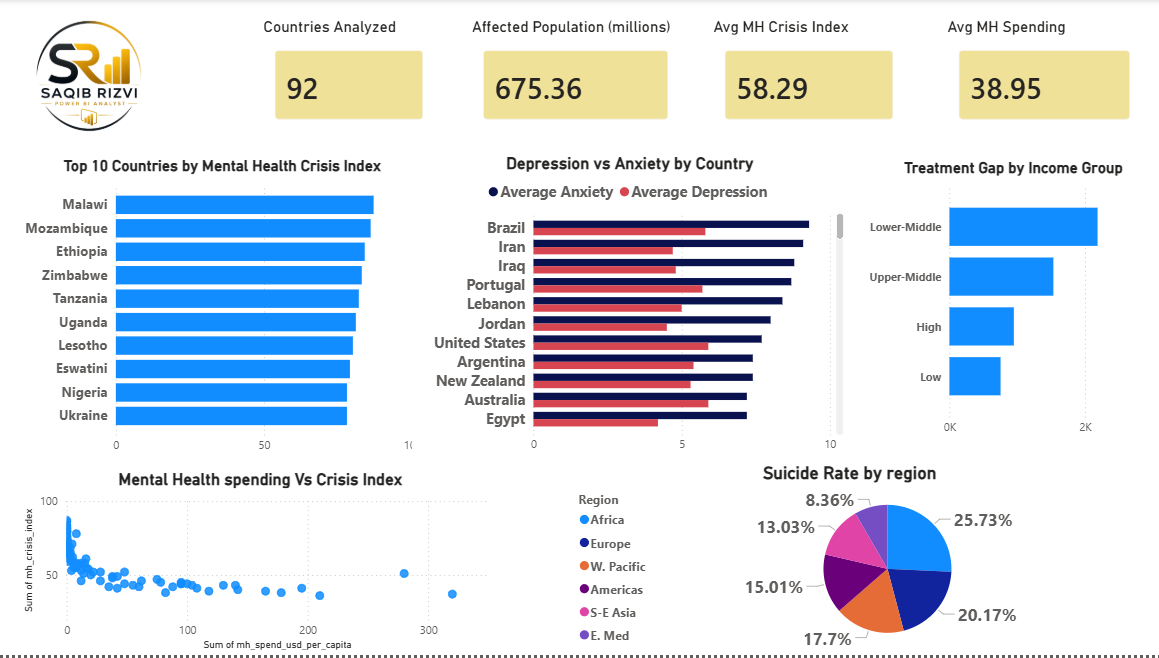

This screenshot's page, from the dashboard's own definition file:
{"tool":"powerbi","page":{"name":"Page 1","canvas":[1280,720],"ordinal":0},"visuals":[{"type":"barChart","title":"Top 10 Countries by Mental Health Crisis Index","fields":{"Category":["Global_Mental_Health_Crisis_Index_2026.country"],"Y":["Sum(Global_Mental_Health_Crisis_Index_2026.mh_crisis_index)"]},"box":[23.1,172.9,446.2,334.3],"z":1000},{"type":"clusteredBarChart","title":"Depression vs Anxiety by Country","fields":{"Y":["Global_Mental_Health_Crisis_Index_2026.Average Anxiety","Global_Mental_Health_Crisis_Index_2026.Average Depression"],"Category":["Global_Mental_Health_Crisis_Index_2026.country"]},"box":[453.8,170.4,478.4,337.5],"z":2000},{"type":"barChart","title":"Treatment Gap by Income Group","fields":{"Category":["Global_Mental_Health_Crisis_Index_2026.income_group"],"Y":["Sum(Global_Mental_Health_Crisis_Index_2026.treatment_gap_pct)"]},"box":[950.2,175.3,329.3,312.9],"z":3000},{"type":"scatterChart","title":"Mental Health spending Vs Crisis Index","fields":{"X":["Sum(Global_Mental_Health_Crisis_Index_2026.mh_spend_usd_per_capita)"],"Y":["Sum(Global_Mental_Health_Crisis_Index_2026.mh_crisis_index)"],"Category":["Global_Mental_Health_Crisis_Index_2026.country"]},"box":[23,517.6,530.1,202.4],"z":3001},{"type":"pieChart","title":"Suicide Rate by region","fields":{"Category":["Global_Mental_Health_Crisis_Index_2026.region"],"Y":["Global_Mental_Health_Crisis_Index_2026.Average Suicide Rate"]},"box":[632.4,509.2,605.2,210.8],"z":3002},{"type":"cardVisual","title":"Countries Analyzed","fields":{"Data":["Global_Mental_Health_Crisis_Index_2026.Contries Analyzed"]},"box":[286.5,19.8,197.6,130.1],"z":3003,"group":"g1"},{"type":"cardVisual","title":"Affected Population (millions)","fields":{"Data":["Sum(Global_Mental_Health_Crisis_Index_2026.total_affected_millions)"]},"box":[515.4,19.8,237.1,130.1],"z":3004,"group":"g1"},{"type":"cardVisual","title":"Avg MH Crisis Index","fields":{"Data":["Global_Mental_Health_Crisis_Index_2026.Average MH Crisis Index"]},"box":[780.5,19.8,219,130.1],"z":3005,"group":"g1"},{"type":"cardVisual","title":"Avg MH Spending","fields":{"Data":["Global_Mental_Health_Crisis_Index_2026.Average mh spending"]},"box":[1037.4,19.8,222.3,130.1],"z":3006,"group":"g1"},{"type":"group","id":"g1","title":"Group 1","box":[286.5,19.8,973.2,130.1],"z":3007},{"type":"image","box":[0,19.8,199.2,130.1],"z":3008}]}

Visuals, with their boxes in screenshot pixels (x1, y1, x2, y2), scaled from the page's 1280x720 canvas onto the 1159x658 screenshot:
"Top 10 Countries by Mental Health Crisis Index" barChart: 21:158:425:464
"Depression vs Anxiety by Country" clusteredBarChart: 411:156:844:464
"Treatment Gap by Income Group" barChart: 860:160:1158:446
"Mental Health spending Vs Crisis Index" scatterChart: 21:473:501:657
"Suicide Rate by region" pieChart: 573:465:1121:657
"Countries Analyzed" cardVisual: 259:18:438:137
"Affected Population (millions)" cardVisual: 467:18:681:137
"Avg MH Crisis Index" cardVisual: 707:18:905:137
"Avg MH Spending" cardVisual: 939:18:1141:137
"Group 1" group: 259:18:1141:137
image: 0:18:180:137
